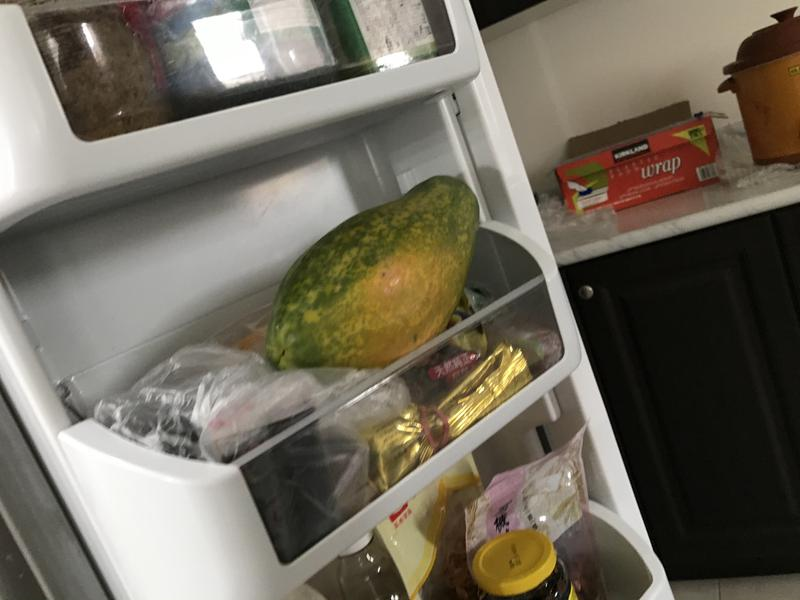papaya: (258, 163, 485, 380)
